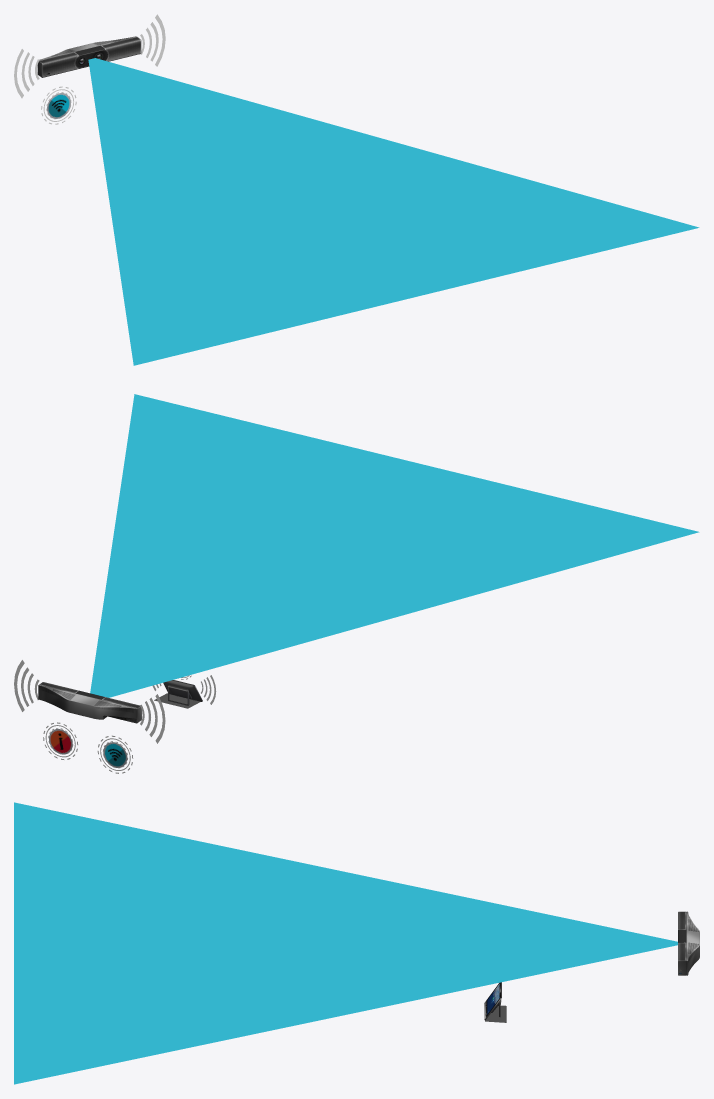
The model's file is SmallProps_Yealink_A20.glb.
3 views of the same model, one above another, from view 1: azimuth 30°, elevation 25°; view 2: azimuth 150°, elevation 25°; view 3: azimuth 270°, elevation 25° (orthographic). The views are drawn at different scales.
Visible parts, largest first — view 1: Range_Yealink_A20, SmallProps_Yealink_A20, CamPop_YealinkA20; view 2: Range_Yealink_A20, SmallProps_Yealink_A20, CamPop_YealinkA20, SmallProps_CTP18, Highlights_Yealink_A20; view 3: Range_Yealink_A20, SmallProps_Yealink_A20.
Part boxes in pixels (x1=…): Range_Yealink_A20: x1=88, y1=58, x2=699, y2=365; SmallProps_Yealink_A20: x1=37, y1=36, x2=141, y2=77; CamPop_YealinkA20: x1=14, y1=14, x2=165, y2=98; Range_Yealink_A20: x1=90, y1=394, x2=699, y2=697; SmallProps_Yealink_A20: x1=38, y1=682, x2=141, y2=723; CamPop_YealinkA20: x1=14, y1=660, x2=165, y2=743; SmallProps_CTP18: x1=163, y1=680, x2=202, y2=705; Highlights_Yealink_A20: x1=43, y1=722, x2=133, y2=773; Range_Yealink_A20: x1=14, y1=802, x2=677, y2=1084; SmallProps_Yealink_A20: x1=678, y1=911, x2=699, y2=975.
Bounding box in the file's own units: 4.26 × 0.6699 × 4.37.
9 materials, 5 textured.
